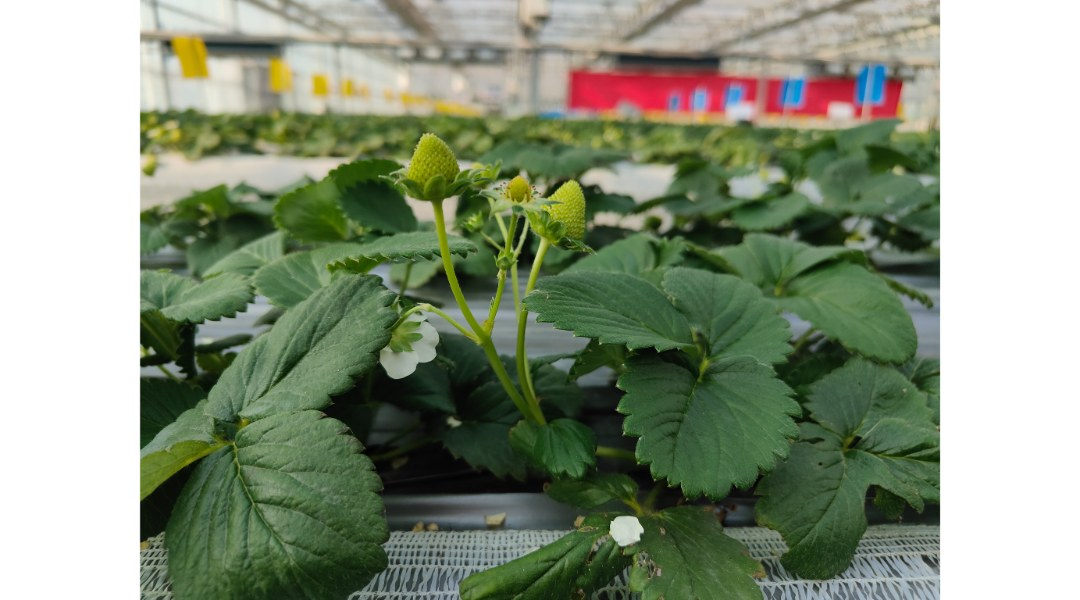berry: (387, 135, 477, 201), (526, 172, 600, 246), (489, 160, 534, 209)
flower: (367, 304, 442, 383)
strain: (424, 186, 471, 303), (515, 307, 550, 430), (483, 271, 502, 339)
